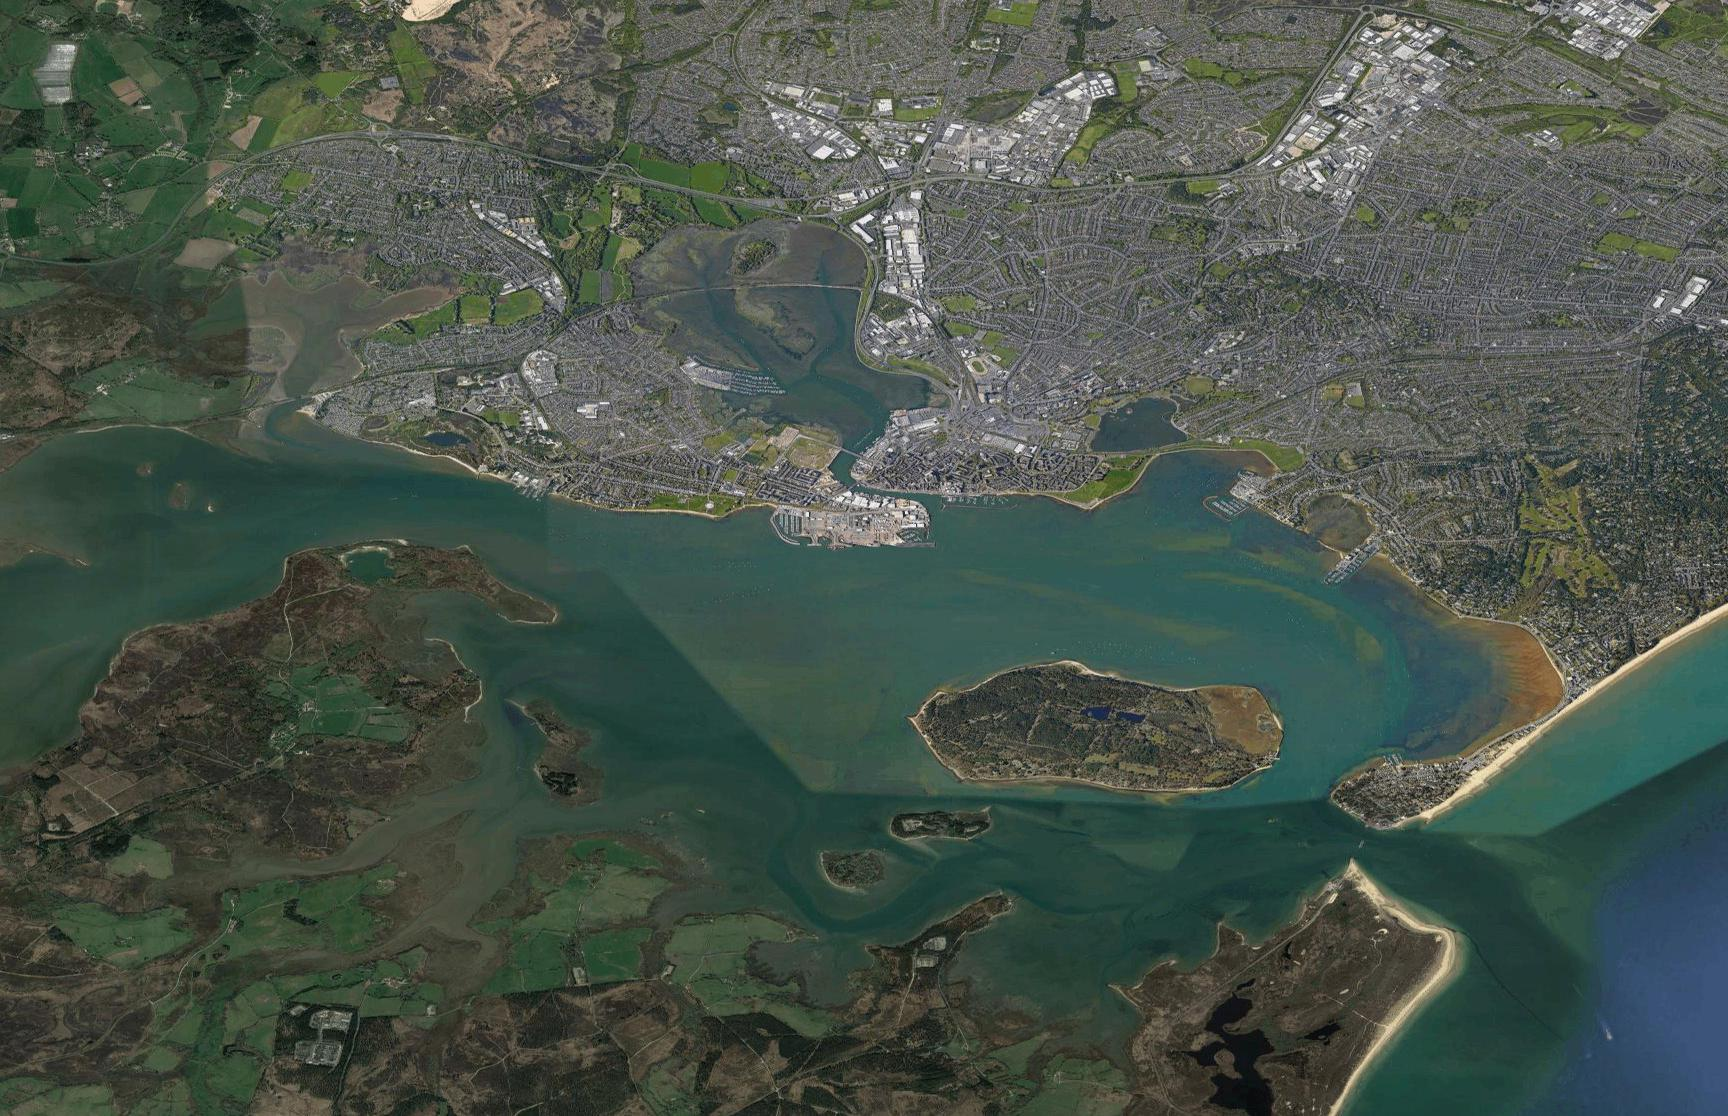bridge: (838, 443, 865, 460)
harbor: (757, 493, 1014, 557), (1204, 489, 1249, 524), (1326, 549, 1372, 584), (506, 476, 550, 505)
industrial: (1290, 19, 1430, 194), (1016, 72, 1116, 176), (1544, 1, 1668, 58), (941, 113, 1024, 180), (880, 191, 928, 304), (775, 106, 854, 162)
